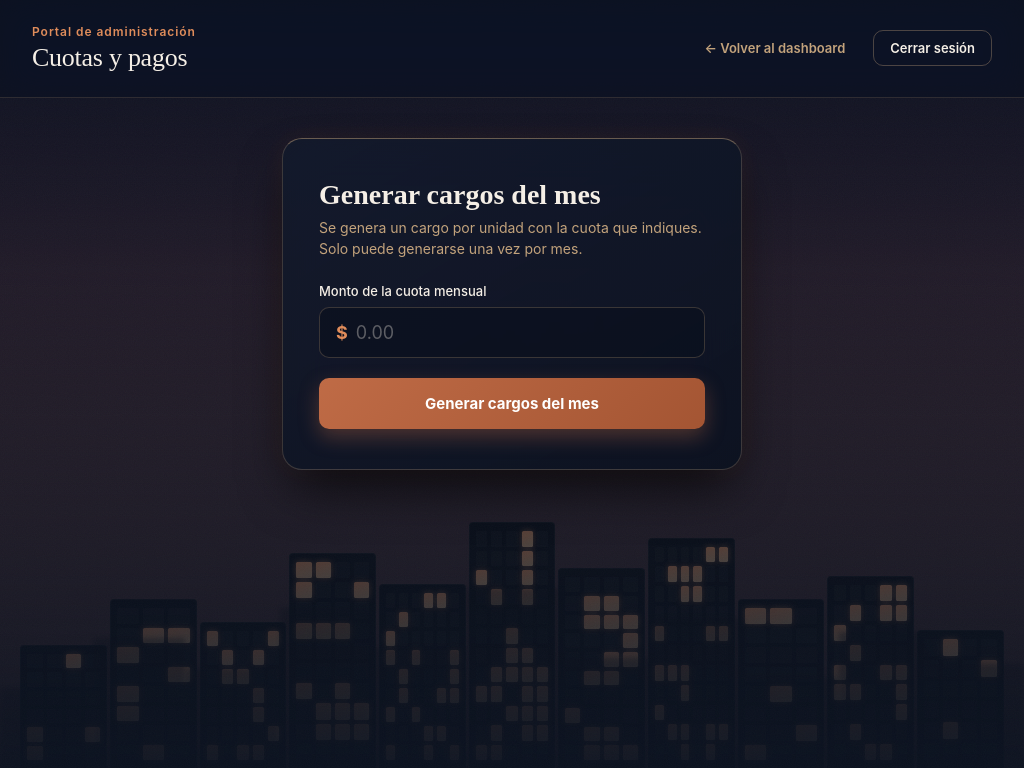
CU-06 GenerarCargosPage › segundo intento en el mismo mes: aviso amigable de duplicado
This screenshot has width=1024, height=768.
Type "1500" into the field labelled "Monto de la cuota mensual $" at point(522, 332), box [356,308,688,357]
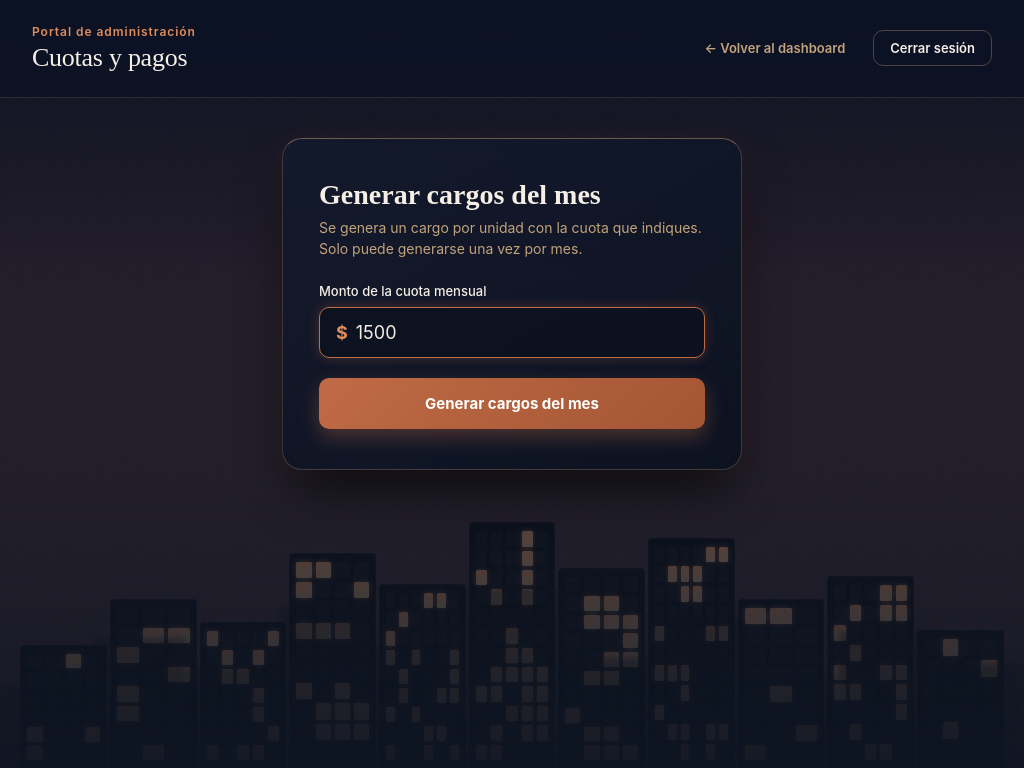
Click the button "Generar cargos del mes" at point(512, 403), box [319,378,705,429]
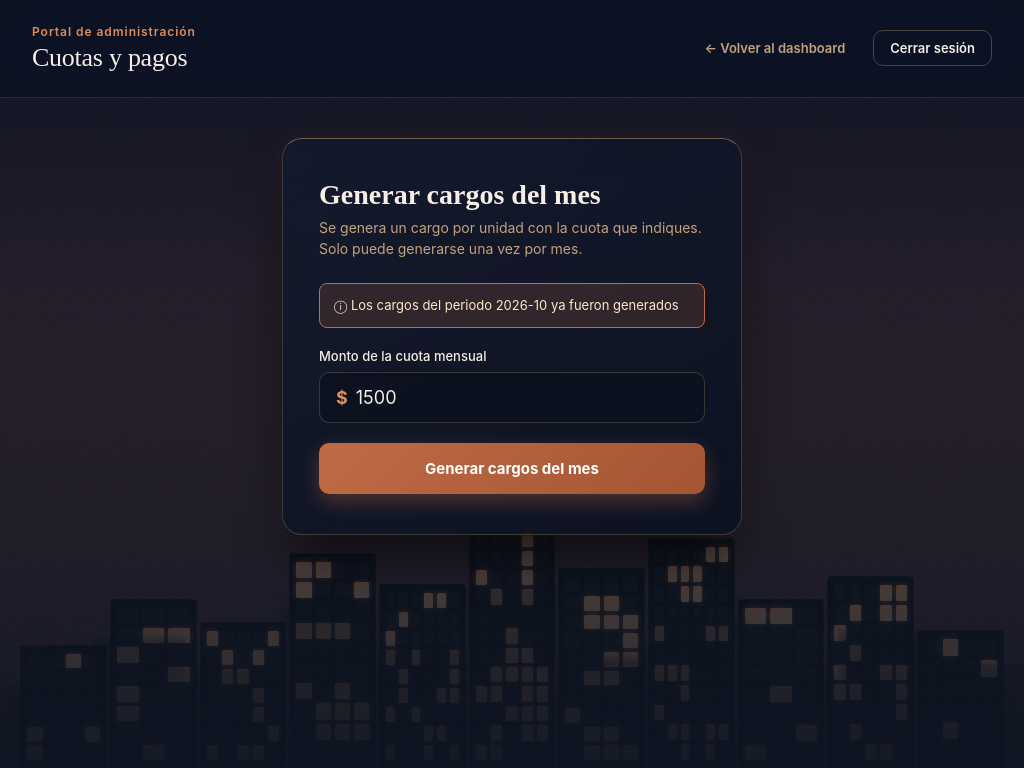
Expected: the message shows "Los cargos del periodo 2026-10 ya fueron generados", [351,297,679,313]
